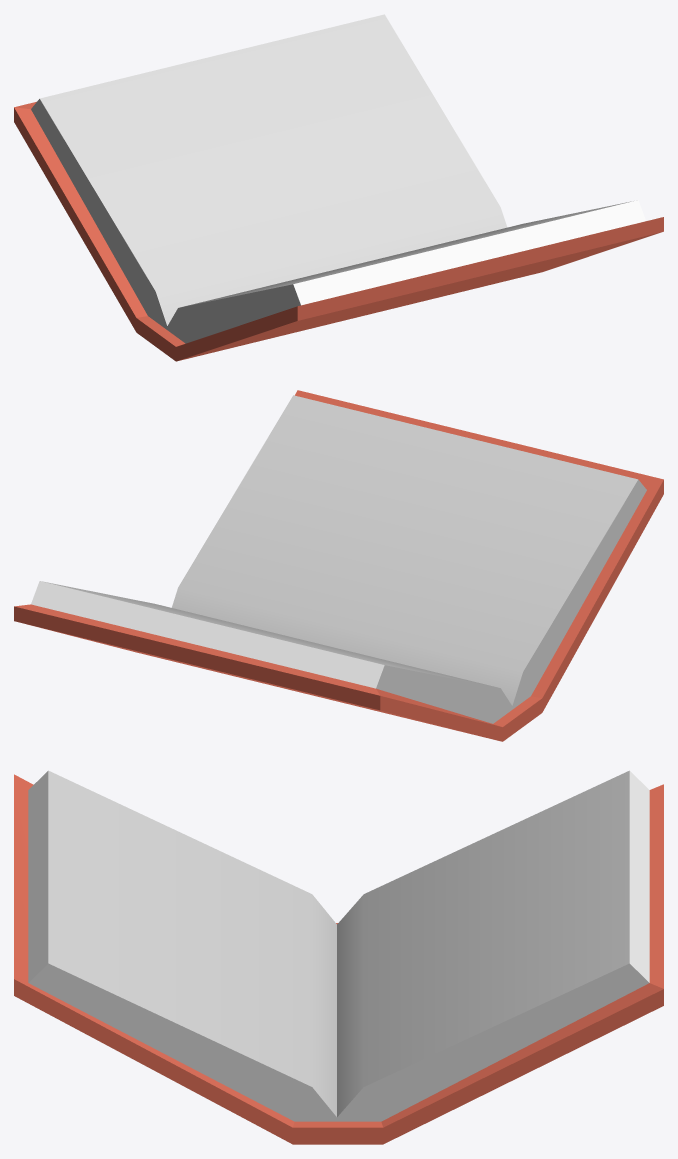
The model's file is _ivroAberto.fbx.
3 views of the same model, one above another, from view 1: azimuth 30°, elevation 25°; view 2: azimuth 150°, elevation 25°; view 3: azimuth 270°, elevation 25° (orthographic). The views are drawn at different scales.
Parts seen in each view (by area): view 1: Cube.002; view 2: Cube.002; view 3: Cube.002.
Part boxes in pixels (x1,y1,x2,y2): Cube.002: (14, 14, 663, 361); Cube.002: (14, 390, 663, 741); Cube.002: (14, 770, 663, 1144).
Bounding box in the file's own units: 383 × 153 × 514.
